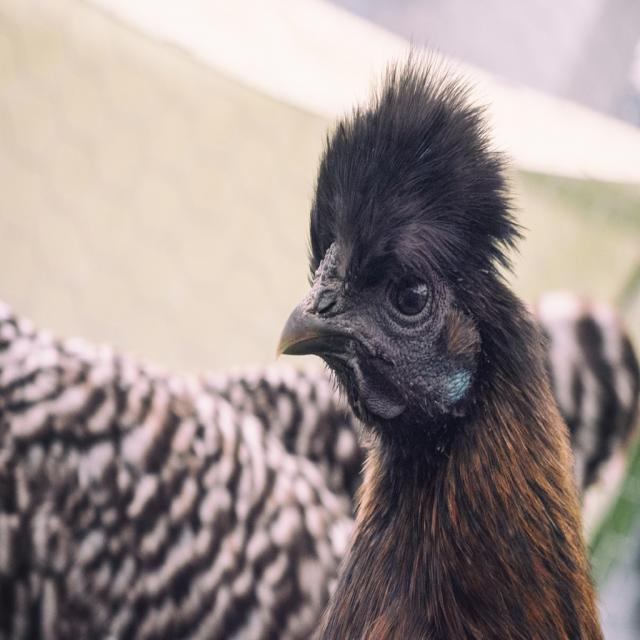Chicken: (266, 67, 616, 640)
